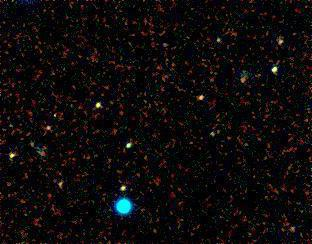star: (274, 212, 304, 242)
